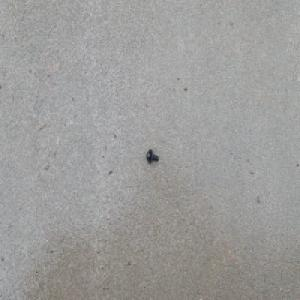BoltWasher: (146, 149, 158, 164)
